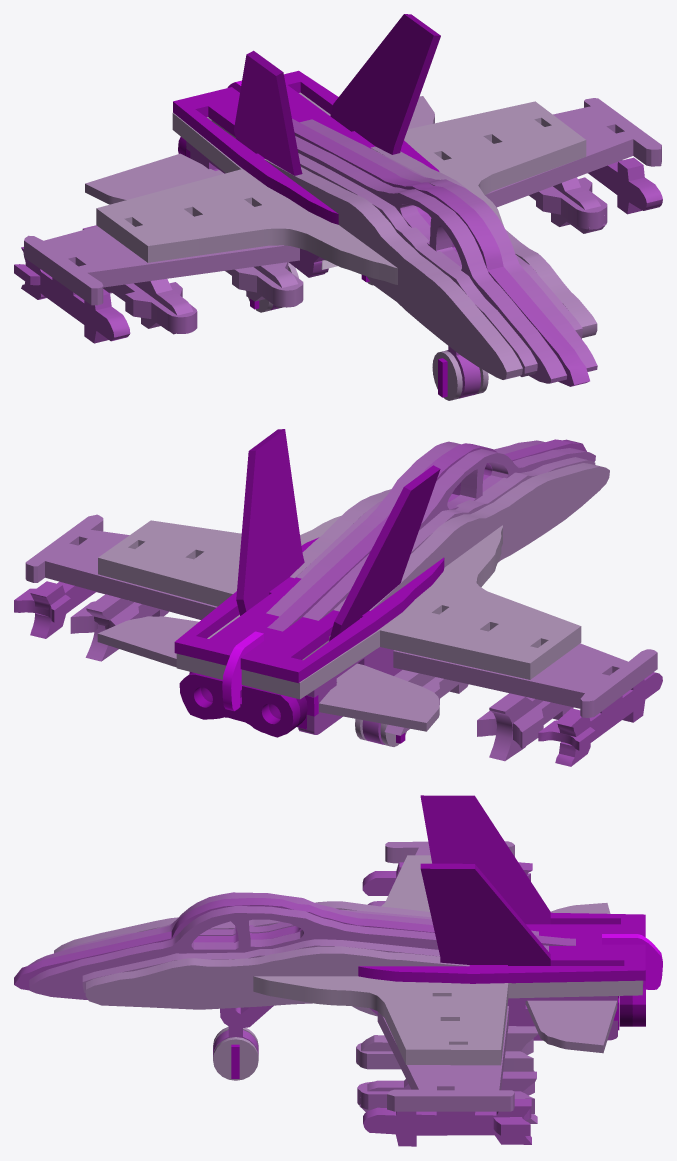
File: avion2.glb
3 views of the same model, one above another, from view 1: azimuth 30°, elevation 25°; view 2: azimuth 150°, elevation 25°; view 3: azimuth 270°, elevation 25° (orthographic). The views are drawn at different scales.
Visible parts, largest first — view 1: polySurface170, polySurface73, polySurface171, polySurface54, polySurface87, polySurface156, pCylinder47, polySurface169, polySurface163, polySurface81, polySurface1, polySurface152 (+9 smaller); view 2: polySurface170, polySurface156, polySurface73, polySurface54, polySurface171, polySurface169, polySurface163, polySurface11, polySurface87, polySurface104, pCylinder47, polySurface152 (+11 smaller); view 3: polySurface170, polySurface85, polySurface156, polySurface81, polySurface54, polySurface163, pCylinder47, polySurface169, polySurface155, polySurface6, polySurface87, polySurface2 (+9 smaller).
Part boxes in pixels (bbox=[...]): polySurface170: bbox=[96, 92, 586, 284]; polySurface73: bbox=[264, 159, 522, 379]; polySurface171: bbox=[24, 226, 299, 305]; polySurface54: bbox=[330, 14, 440, 154]; polySurface87: bbox=[295, 136, 567, 383]; polySurface156: bbox=[173, 70, 439, 224]; pCylinder47: bbox=[292, 118, 589, 398]; polySurface169: bbox=[485, 98, 661, 207]; polySurface163: bbox=[234, 50, 302, 175]; polySurface81: bbox=[300, 119, 597, 371]; polySurface1: bbox=[298, 153, 537, 376]; polySurface152: bbox=[14, 247, 130, 343]; polySurface170: bbox=[98, 515, 581, 699]; polySurface156: bbox=[174, 537, 444, 683]; polySurface73: bbox=[329, 463, 609, 639]; polySurface54: bbox=[236, 429, 304, 615]; polySurface171: bbox=[393, 643, 657, 717]; polySurface169: bbox=[25, 514, 217, 619]; polySurface163: bbox=[329, 465, 440, 641]; polySurface11: bbox=[319, 663, 439, 731]; polySurface87: bbox=[303, 448, 595, 620]; polySurface104: bbox=[179, 672, 300, 737]; pCylinder47: bbox=[267, 439, 586, 631]; polySurface152: bbox=[538, 672, 662, 766]; polySurface170: bbox=[253, 855, 643, 1065]; polySurface85: bbox=[85, 946, 469, 1016]; polySurface156: bbox=[358, 912, 645, 983]; polySurface81: bbox=[29, 906, 548, 999]; polySurface54: bbox=[420, 863, 550, 965]; polySurface163: bbox=[420, 795, 550, 924]; pCylinder47: bbox=[14, 898, 575, 1056]; polySurface169: bbox=[377, 1006, 514, 1111]; polySurface155: bbox=[363, 1099, 531, 1146]; polySurface6: bbox=[525, 1000, 617, 1053]; polySurface87: bbox=[28, 892, 538, 965]; polySurface2: bbox=[82, 939, 439, 992].
Size of the model in its own units: 12.62 by 5.59 by 13.51.
